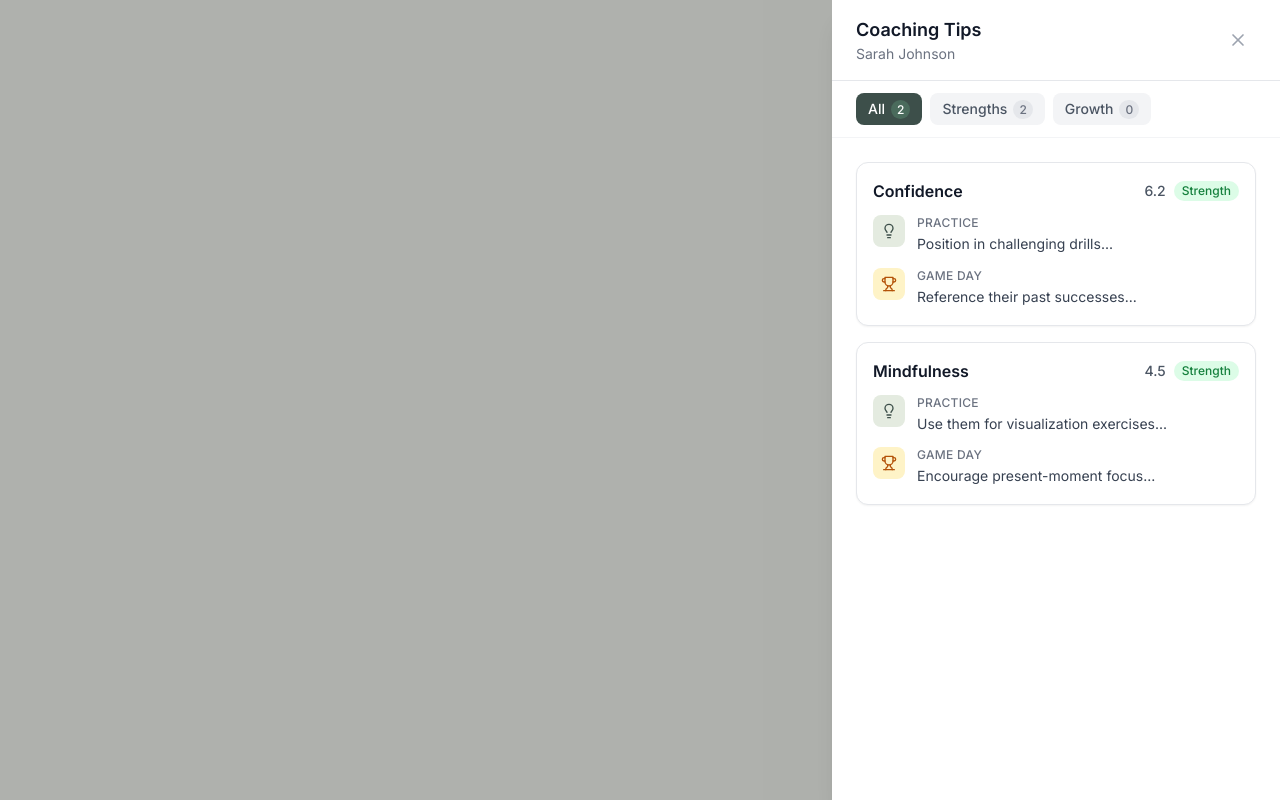
Test: CoachingTipPanel › empty states › handles athlete with all strengths
Click the button "Growth0" at (1102, 109), box top-left (1053, 93), bottom-right (1151, 125)
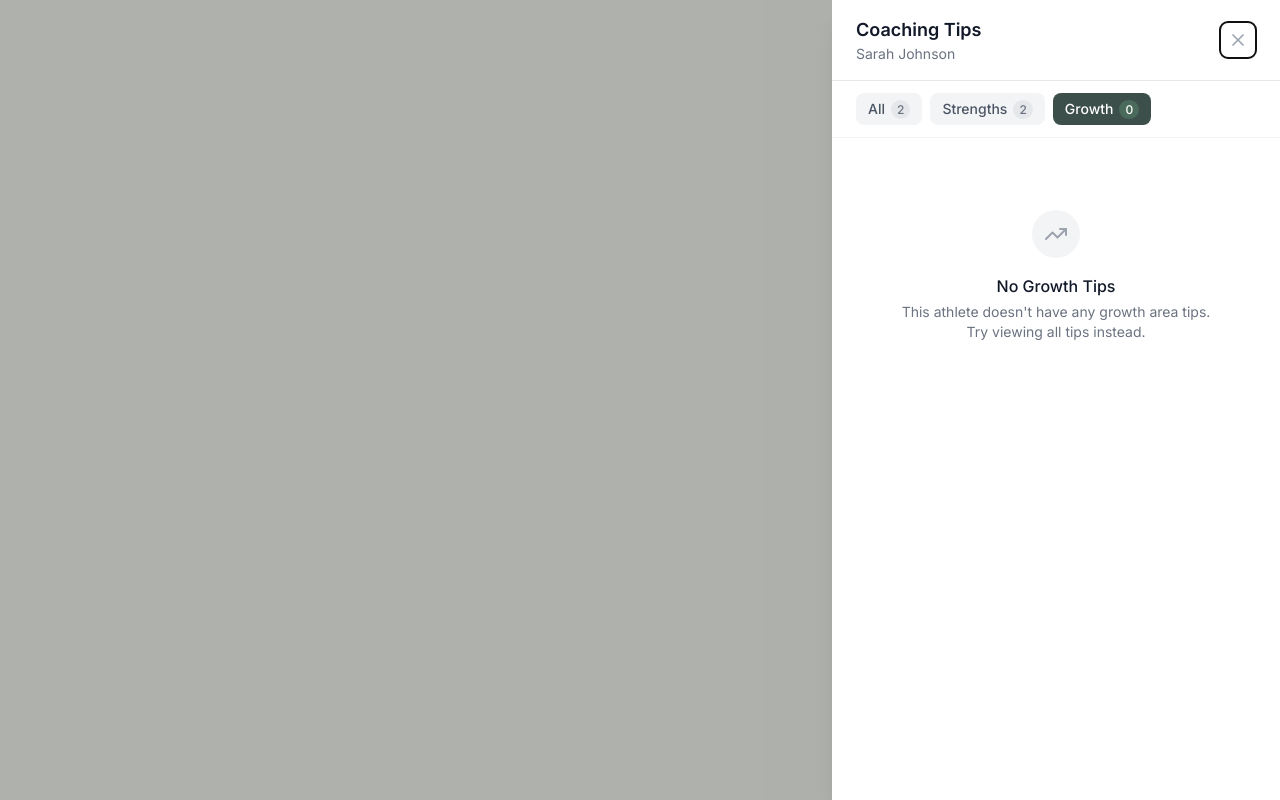
Now the heading "No Growth Tips" is shown, box top-left (997, 274), bottom-right (1116, 298)
